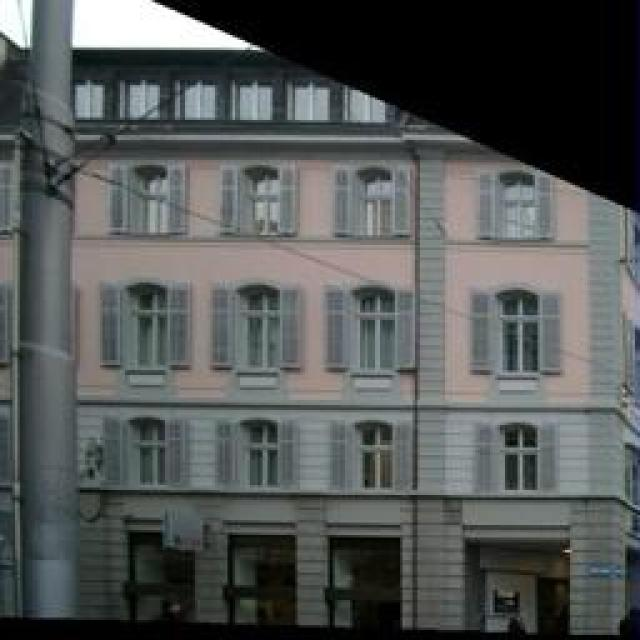building: (70, 42, 628, 640)
